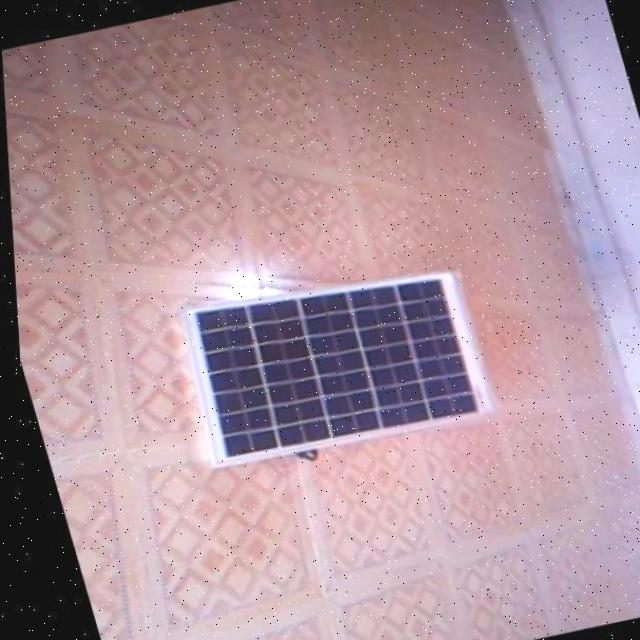Normal Solar Panel: (162, 252, 492, 480)
